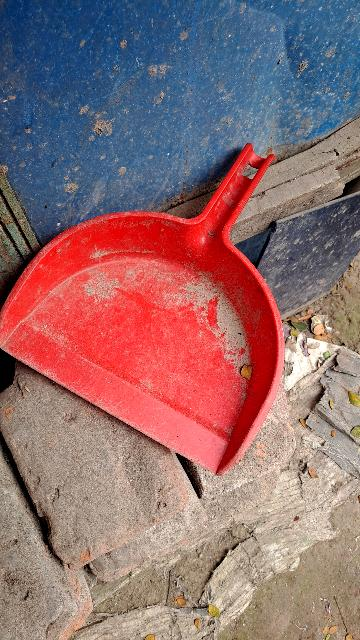hardplastic: (0, 182, 314, 470)
